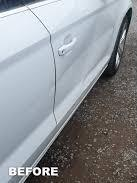dent: (59, 31, 117, 114)
